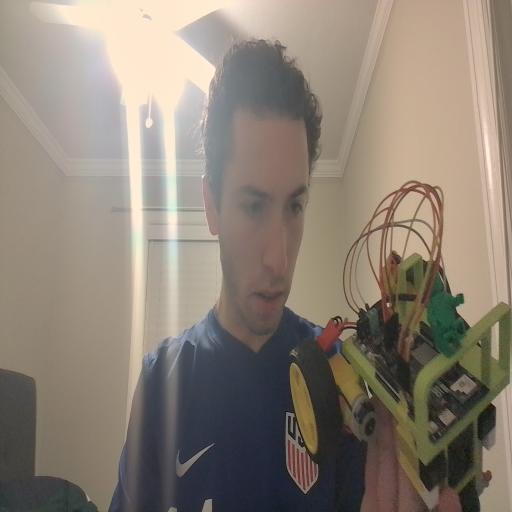green LEGO minifig: (424, 265, 470, 359)
